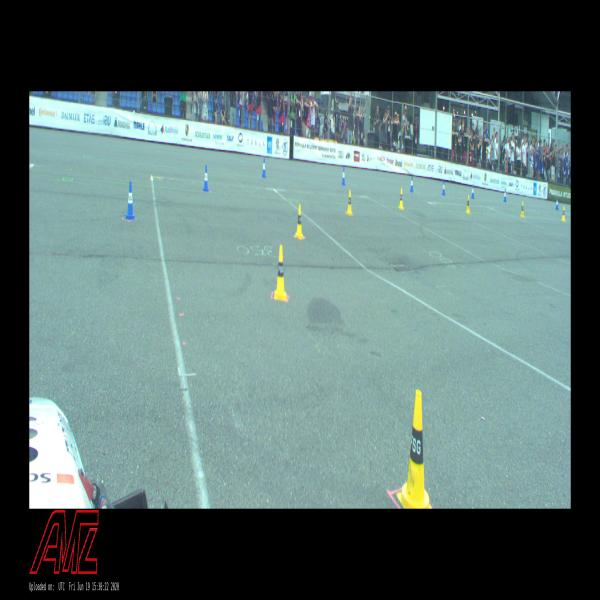blue_cone: (125, 181, 136, 220), (202, 164, 209, 192), (262, 157, 266, 178), (342, 167, 346, 185), (503, 189, 507, 202), (555, 197, 559, 210), (442, 180, 445, 196), (410, 177, 413, 192), (471, 184, 474, 199)
yellow_cone: (396, 390, 432, 509), (274, 244, 287, 300), (294, 204, 303, 239), (346, 189, 353, 215), (398, 188, 404, 210), (465, 195, 470, 213), (561, 206, 566, 222), (520, 201, 524, 218)
